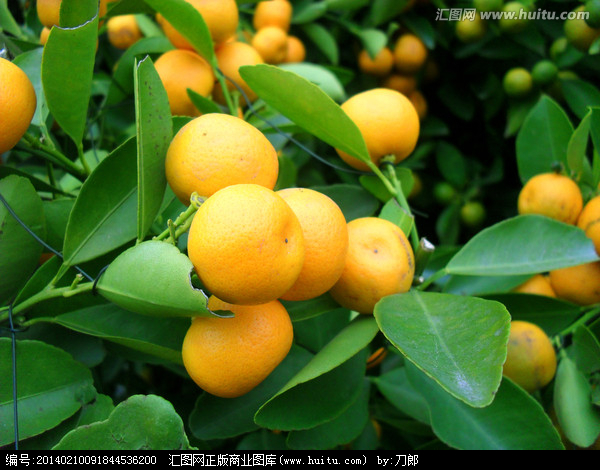orange: (186, 184, 304, 304), (181, 293, 292, 396), (166, 112, 278, 207), (263, 187, 349, 301), (334, 216, 415, 313), (332, 88, 416, 169), (484, 321, 557, 389), (151, 47, 214, 113), (517, 174, 581, 230), (162, 1, 238, 47), (1, 60, 37, 156), (211, 42, 264, 106), (547, 246, 600, 300), (35, 1, 101, 30), (576, 197, 599, 251)
